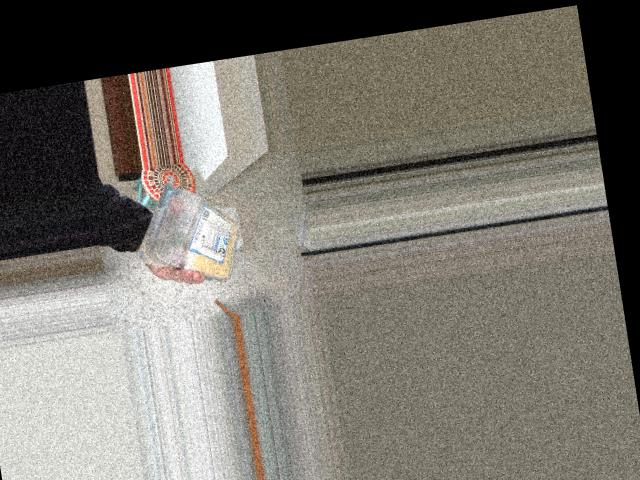cheese: (134, 171, 253, 278)
